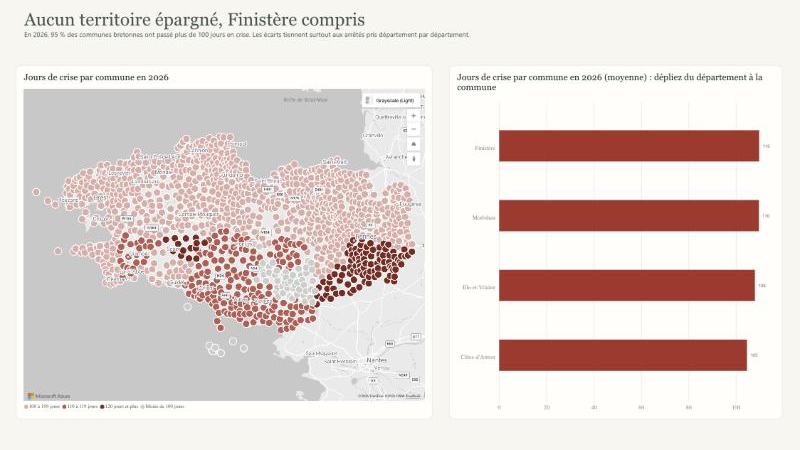

What the dashboard file says about the page in this screenshot:
{"tool":"powerbi","page":{"name":"Les territoires","canvas":[1920,1080],"ordinal":1},"visuals":[{"type":"textbox","box":[40,24,1600,130],"z":0},{"type":"azureMap","title":"Jours de crise par commune en 2026","fields":{"Series":["dim_commune.Classe de crise 2026"],"X":["dim_commune.longitude"],"Y":["dim_commune.latitude"]},"box":[37.9,175.3,1000,851],"z":1000},{"type":"clusteredBarChart","title":"Jours de crise par commune en 2026 (moyenne) : dépliez du département à la commune","fields":{"Category":["dim_departement.departement","dim_commune.nom_epci","dim_commune.nom_commune"],"Y":["dim_commune.Jours de crise 2026"]},"box":[1077.9,175.3,800,851],"z":2000}]}

Visuals, with their boxes in screenshot pixels (x1, y1, x2, y2), scaled from the page's 1920x1080 canvas onto the 800x450 screenshot:
textbox: region(17, 10, 683, 64)
"Jours de crise par commune en 2026" azureMap: region(16, 73, 432, 428)
"Jours de crise par commune en 2026 (moyenne) : dépliez du département à la commune" clusteredBarChart: region(449, 73, 782, 428)
